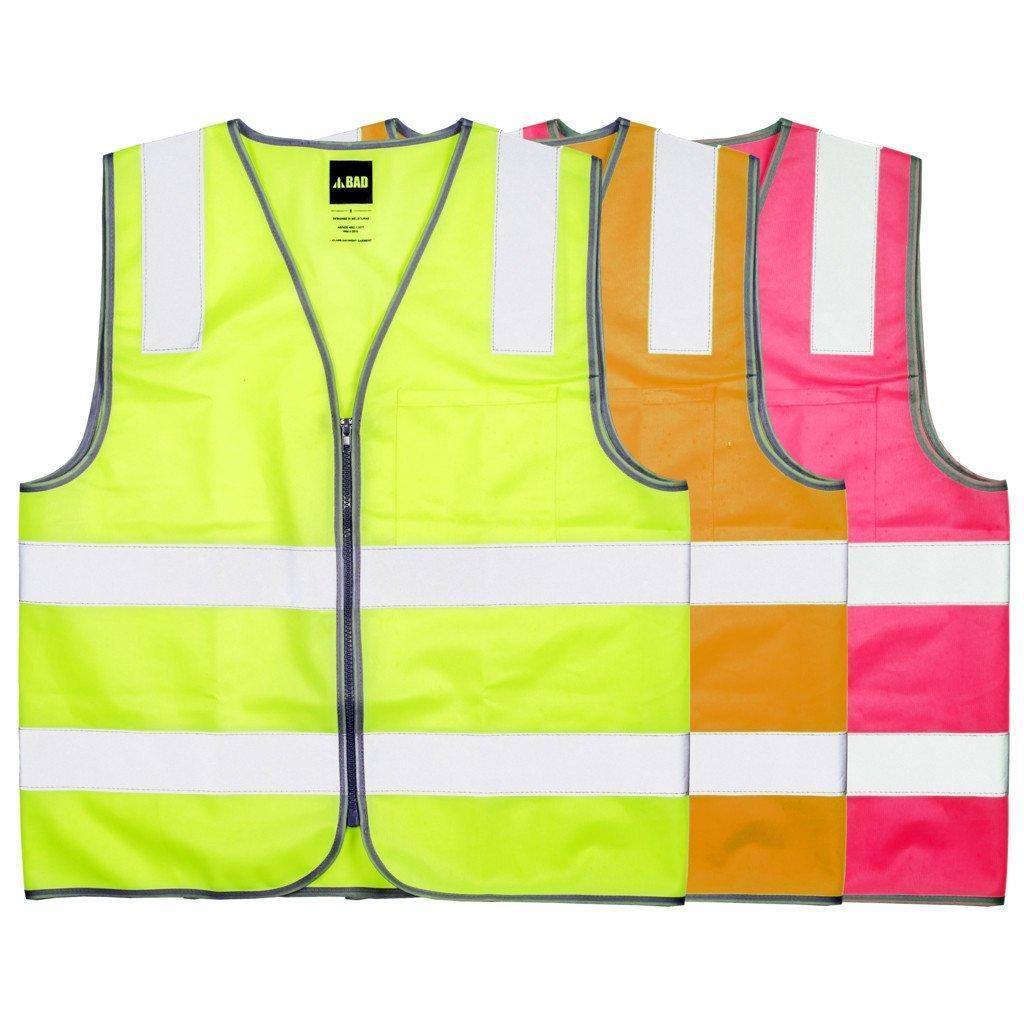vest: (14, 116, 694, 910), (697, 117, 1012, 910), (532, 119, 847, 906)
